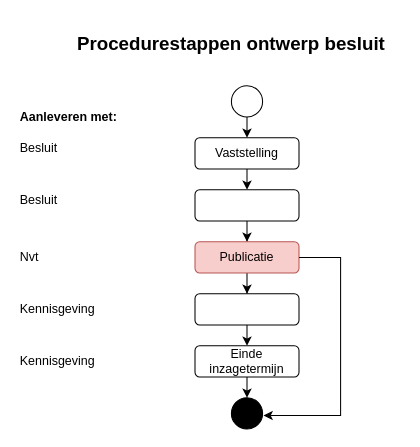
The diagram is 420 pixels wide and 447 high, and some of its shapes have lost their labels. The shapes that lost their labels are listed below. From the top down, each one's centre as x and y in pixels, then its label:
At pixel 246 205: "Ondertekening".
At pixel 246 309: "Begin inzagetermijn".
